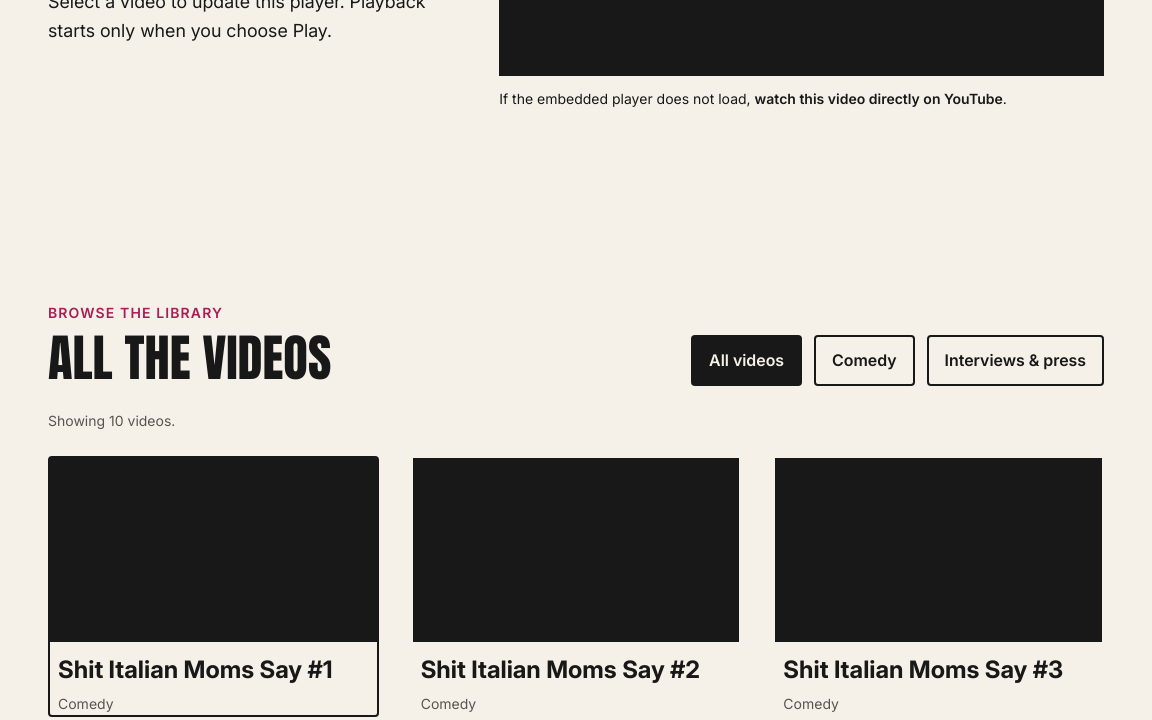
Test: VideoGallery App Router query state › uses history entries for meaningful filter and selection changes and syncs Back
(page scrolled)
Click the button "Comedy". click: (864, 360)
box: left=814, top=335, right=915, bottom=386
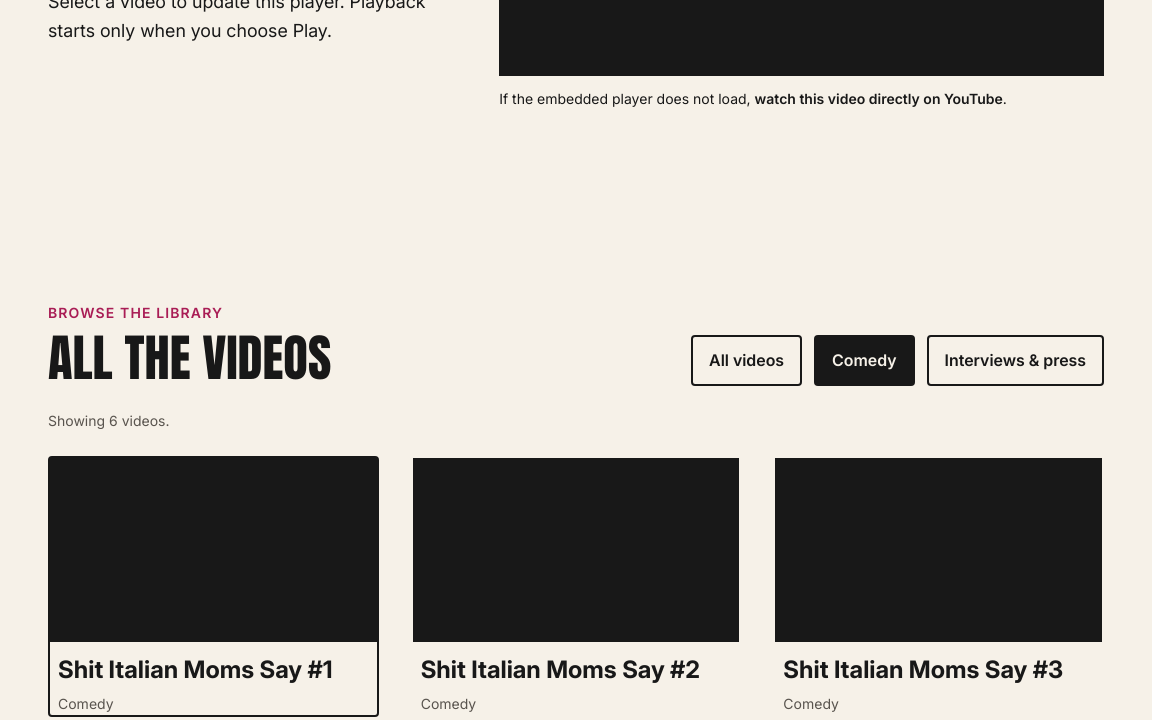
Click the button "Shit Italian Moms Say #2 Comedy". click: (576, 587)
box: left=411, top=456, right=741, bottom=717
(page scrolled)
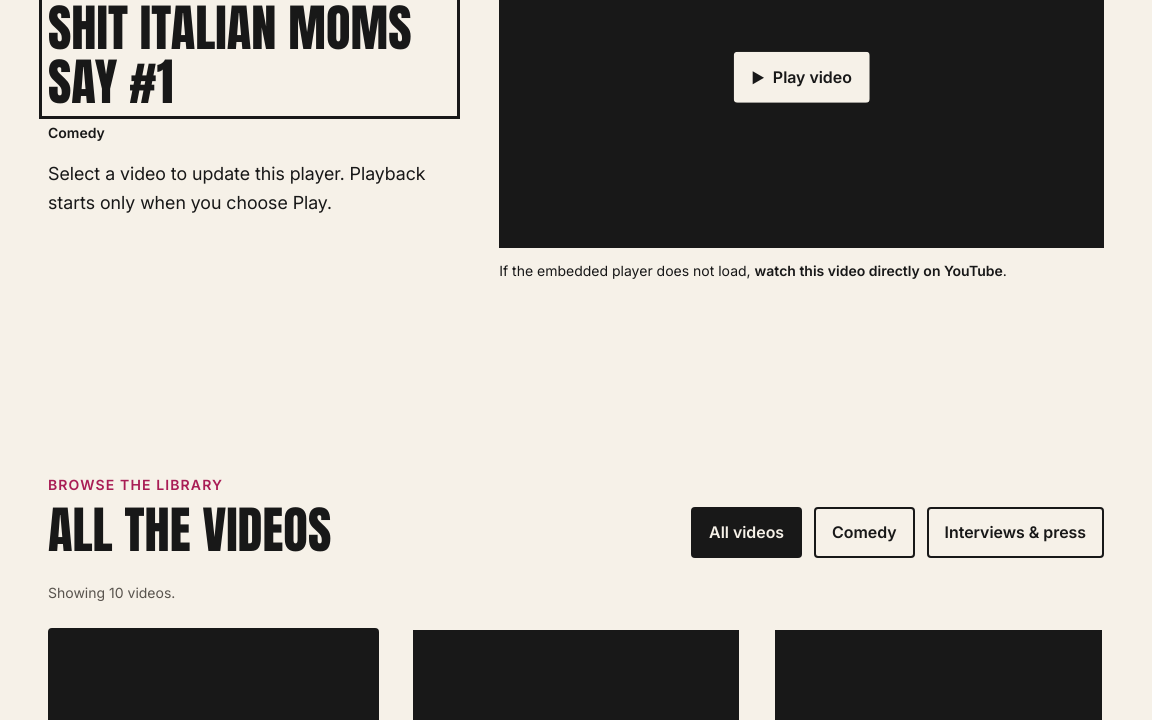
Expected: the heading "Shit Italian Moms Say #1" is shown, left=48, top=1, right=451, bottom=110
Now the button "All videos" is pressed, box left=691, top=507, right=802, bottom=558
